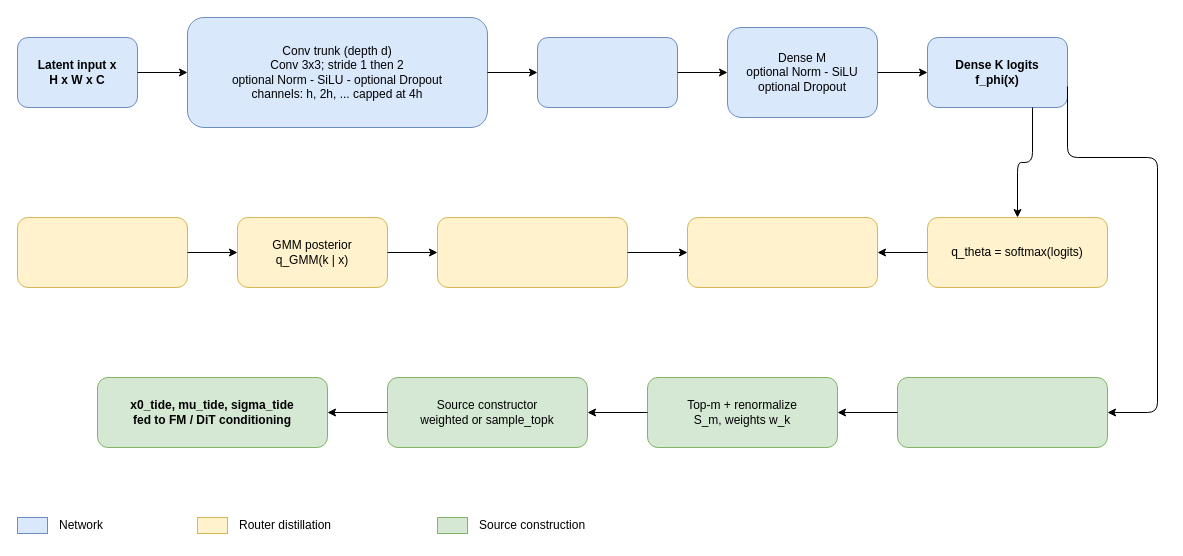
Image size: 1183x556. Some labels were removed from this diagram. The centre of each missing label's shape, as x and y in pixels:
"Distill loss KL(q_GMM,T || q_theta)" goes at (x=782, y=252).
"Global average pool over H, W" goes at (x=607, y=72).
"q_phi,tau = softmax(logits / tau)" goes at (x=1002, y=412).
"Router-training input x1 / x0 / mix / bridge" goes at (x=102, y=252).
"Target temperature T softmax(log q_GMM / T)" goes at (x=532, y=252).
